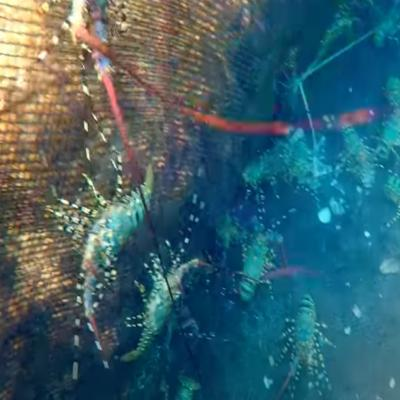lobster: (90, 178, 156, 270), (144, 260, 196, 349), (292, 296, 328, 370), (238, 234, 274, 302), (341, 119, 365, 169), (282, 68, 303, 117)
